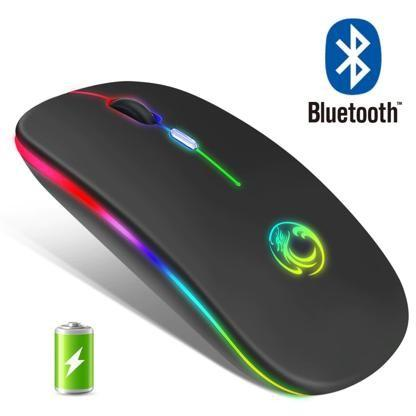not trash: (12, 79, 416, 400)
